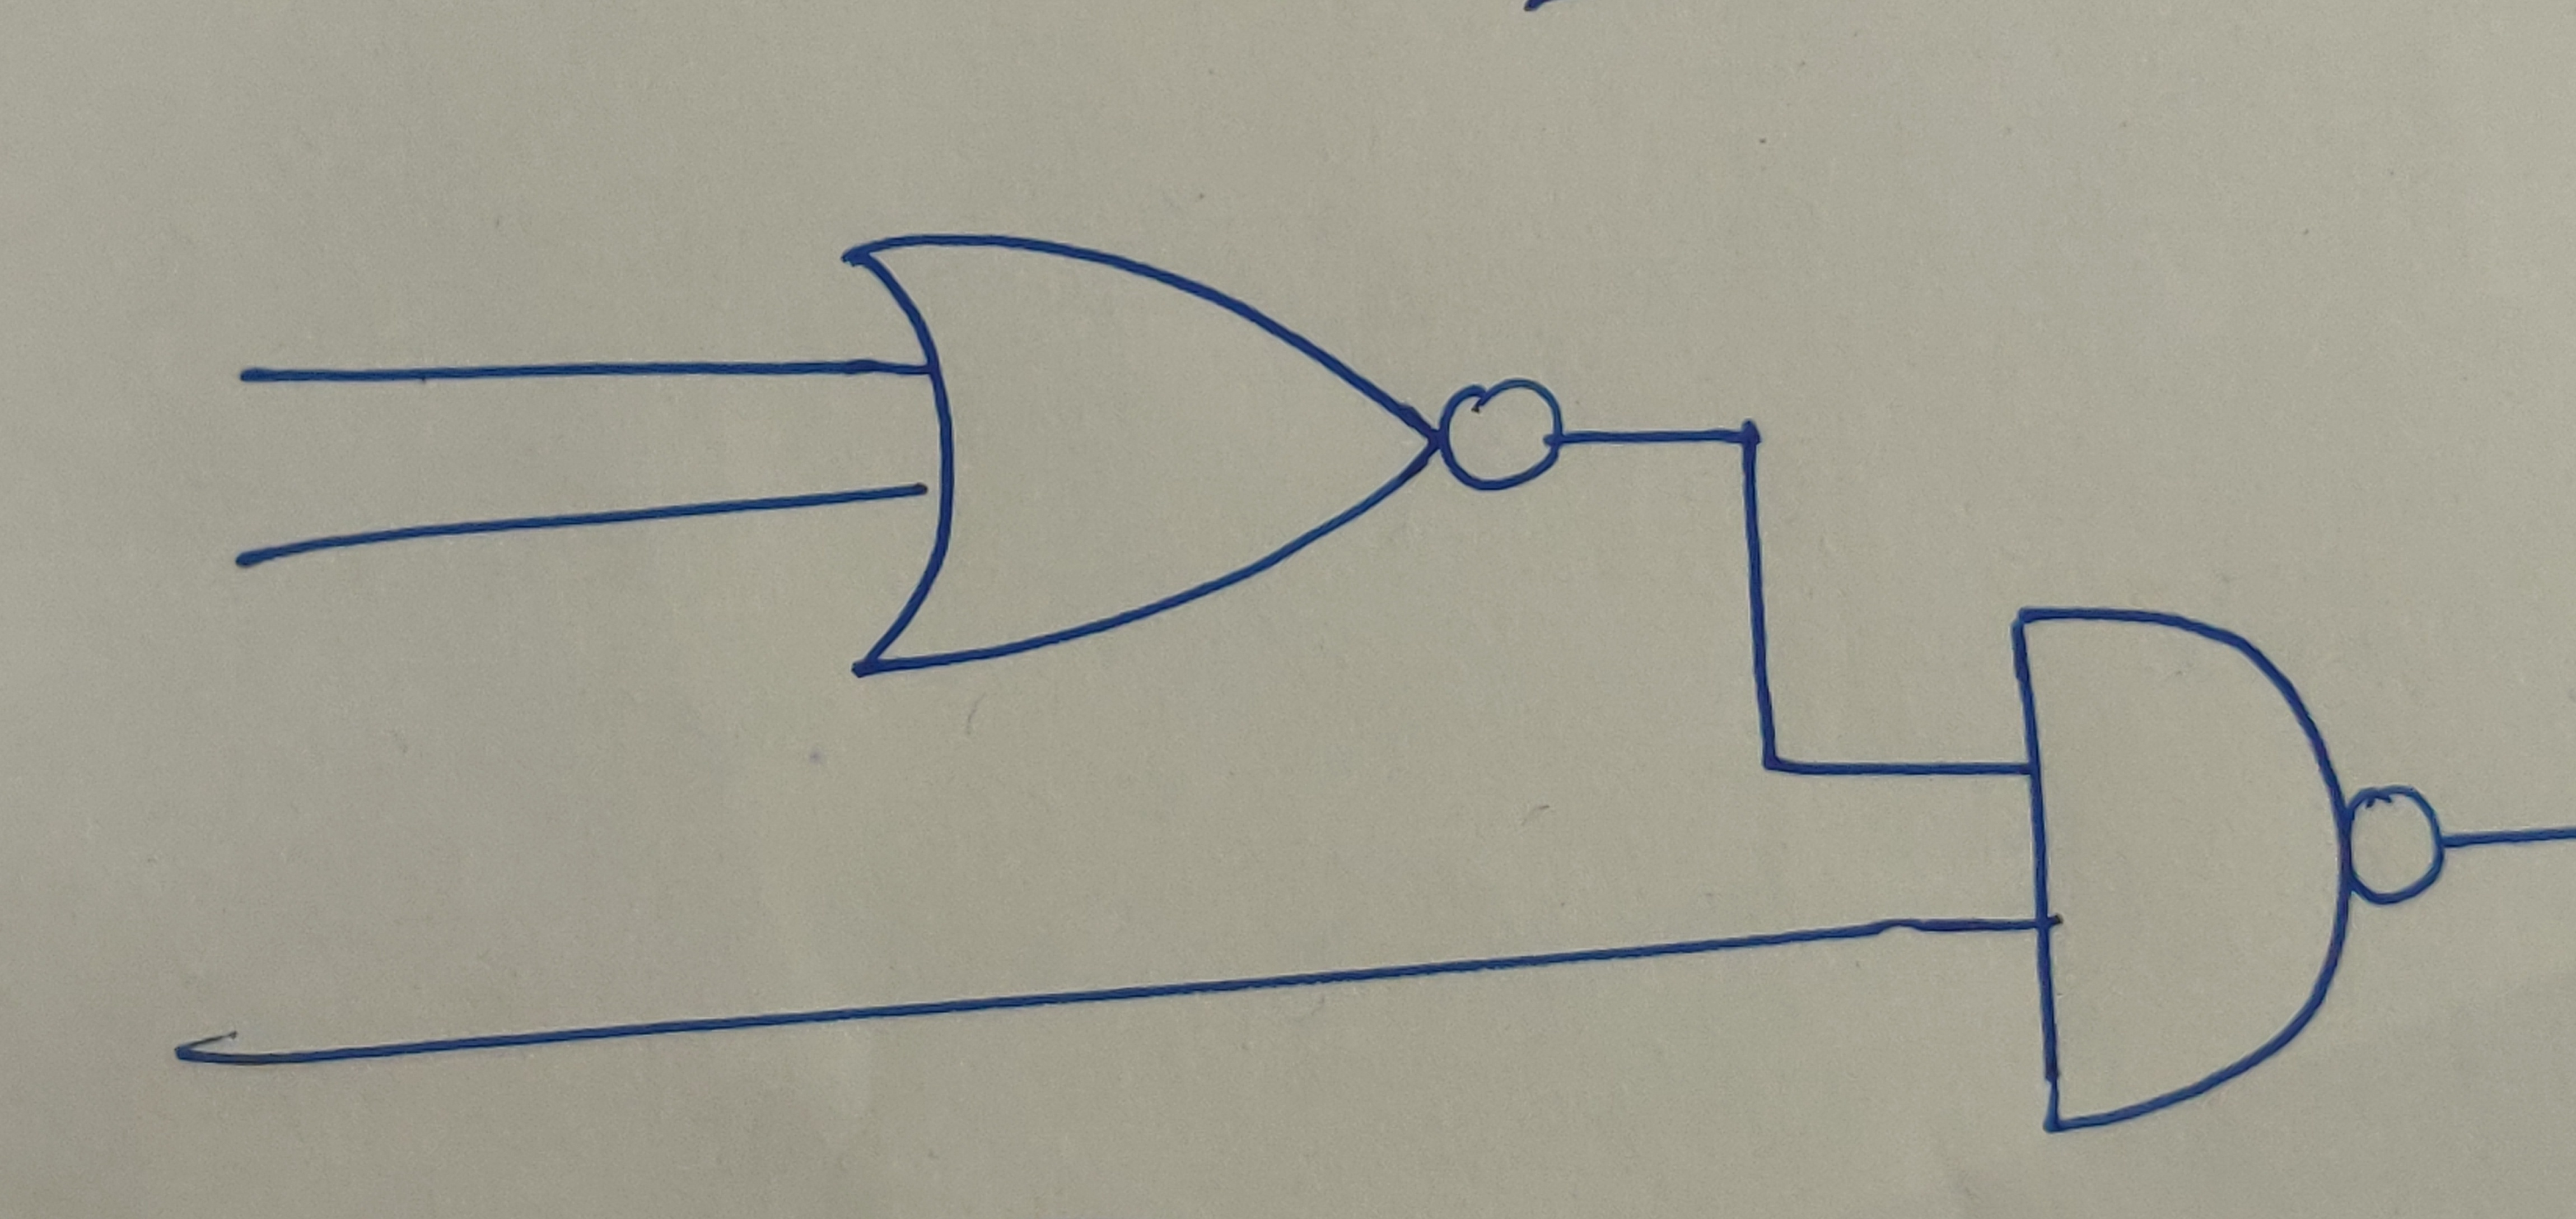and: (2013, 606, 2354, 1137)
not: (1433, 371, 1567, 494), (2346, 780, 2448, 917)
or: (843, 233, 1446, 682)
